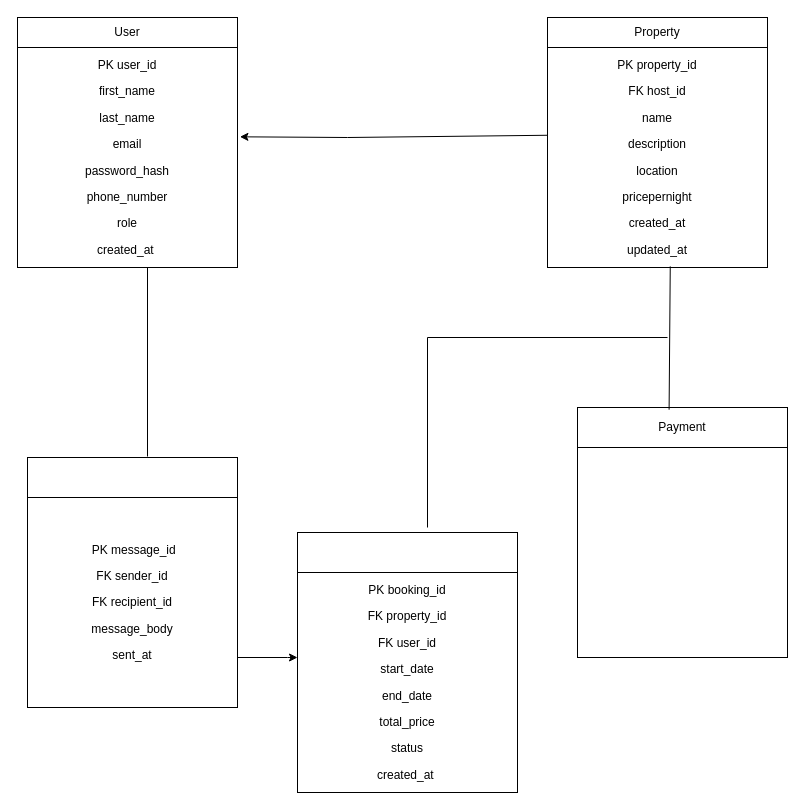
The diagram is 805 pixels wide and 811 high, and some of its shapes have lost their labels. Here are the shapes that lost their labels. From the top down, the box of each, then its label:
(26, 456, 238, 498): Message
(296, 532, 518, 572): Booking
(576, 446, 788, 658): PK payment_id FK booking_id amount payment_date payment_method
